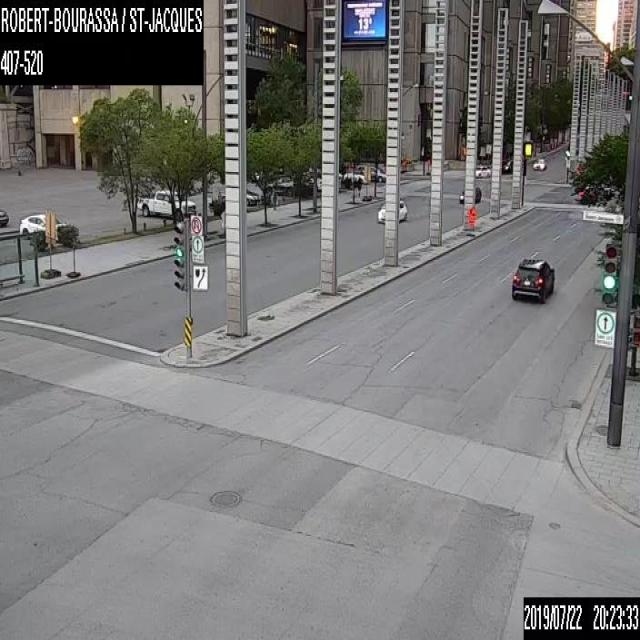construction: (466, 204, 476, 233)
vehicle: (510, 256, 555, 303), (135, 188, 196, 221), (19, 211, 67, 240), (216, 186, 259, 206), (376, 200, 406, 224), (265, 175, 294, 195), (356, 164, 386, 180), (458, 185, 481, 202), (474, 163, 491, 177), (0, 207, 9, 226), (532, 158, 546, 170), (502, 158, 512, 172)
